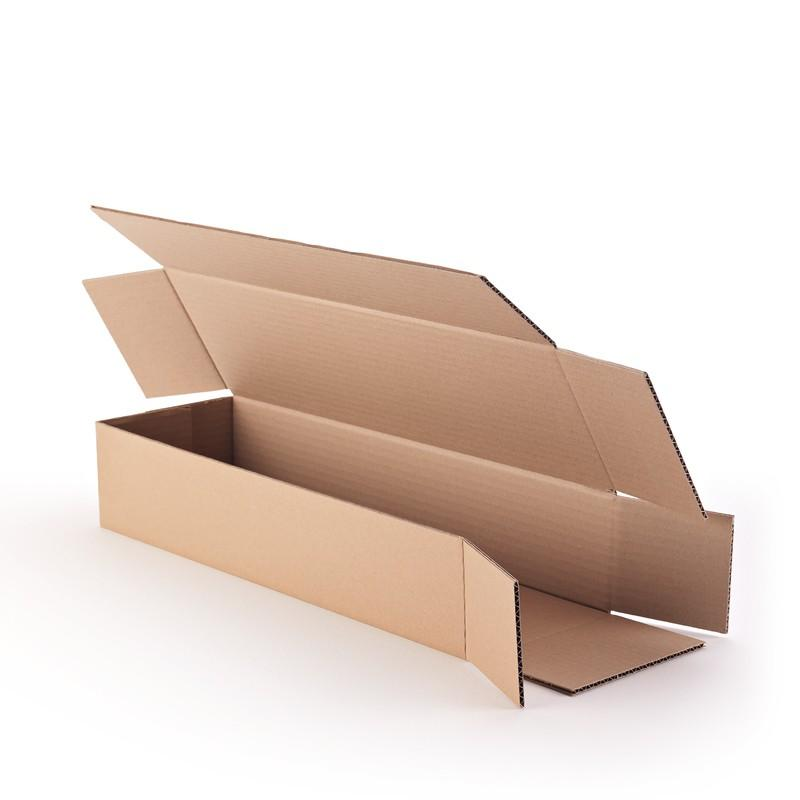plastic: (24, 208, 780, 738)
